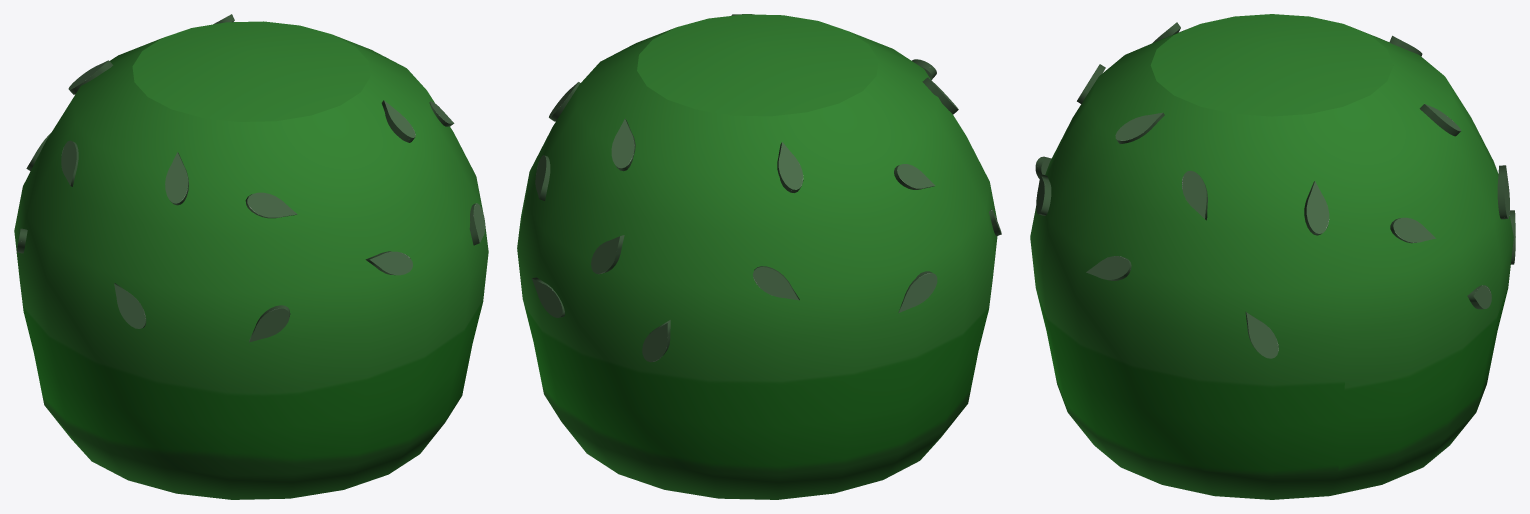
File: BushLeaves.fbx
The picture shows the model from 3 angles, left to right: view 1: azimuth 30°, elevation 25°; view 2: azimuth 150°, elevation 25°; view 3: azimuth 270°, elevation 25°; orthographic projection.
Parts seen in each view (by area): view 1: pCylinder2, pasted__pCylinder8, pasted__pasted__pCylinder4, pasted__pCylinder9, pasted__pasted__pasted__pCylinder8, pasted__pasted__pasted__pCylinder7, pasted__pCylinder1, pasted__pCylinder10, pasted__pasted__pCylinder5; view 2: pCylinder2, pasted__pCylinder7, pasted__pCylinder11, pasted__pCylinder6, pasted__pasted__pCylinder3, pasted__pasted__pasted__pCylinder6, pasted__pasted__pasted__pCylinder5, pasted__pCylinder10, pasted__pasted__pasted__pCylinder4, pasted__pCylinder5; view 3: pCylinder2, pasted__pCylinder4, pasted__pasted__pasted__pCylinder3, pasted__pCylinder3, pasted__pCylinder1, pasted__pCylinder5, pasted__pasted__pCylinder5, pasted__pasted__pasted__pCylinder6, pasted__pCylinder6.
Boxes of the visible parts, x1,y1,x2,y2 form: pCylinder2: [14, 21, 488, 499]; pasted__pCylinder8: [245, 192, 297, 218]; pasted__pasted__pCylinder4: [249, 305, 290, 342]; pasted__pCylinder9: [165, 152, 188, 205]; pasted__pasted__pasted__pCylinder8: [114, 283, 146, 328]; pasted__pasted__pasted__pCylinder7: [365, 251, 412, 275]; pasted__pCylinder1: [381, 100, 415, 142]; pasted__pCylinder10: [61, 140, 78, 186]; pasted__pasted__pCylinder5: [469, 203, 485, 245]; pCylinder2: [517, 14, 997, 499]; pasted__pCylinder7: [753, 266, 799, 300]; pasted__pCylinder11: [777, 142, 803, 192]; pasted__pCylinder6: [611, 118, 635, 171]; pasted__pasted__pCylinder3: [898, 271, 937, 312]; pasted__pasted__pasted__pCylinder6: [591, 235, 624, 274]; pasted__pasted__pasted__pCylinder5: [642, 320, 670, 362]; pasted__pCylinder10: [894, 164, 935, 189]; pasted__pasted__pasted__pCylinder4: [532, 277, 564, 317]; pasted__pCylinder5: [535, 155, 550, 200]; pCylinder2: [1030, 14, 1513, 499]; pasted__pCylinder4: [1304, 181, 1329, 235]; pasted__pasted__pasted__pCylinder3: [1245, 311, 1278, 358]; pasted__pCylinder3: [1181, 170, 1207, 220]; pasted__pCylinder1: [1115, 112, 1164, 143]; pasted__pCylinder5: [1390, 217, 1436, 243]; pasted__pasted__pCylinder5: [1086, 256, 1131, 280]; pasted__pasted__pasted__pCylinder6: [1497, 165, 1509, 219]; pasted__pCylinder6: [1419, 104, 1460, 136].
Size of the model in its own units: 103 by 85.97 by 101.
Materials: 4 (4 with a texture image).
